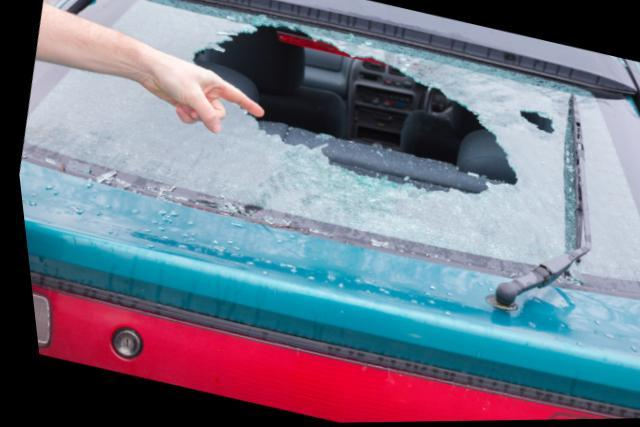glass shatter: (18, 0, 640, 302)
